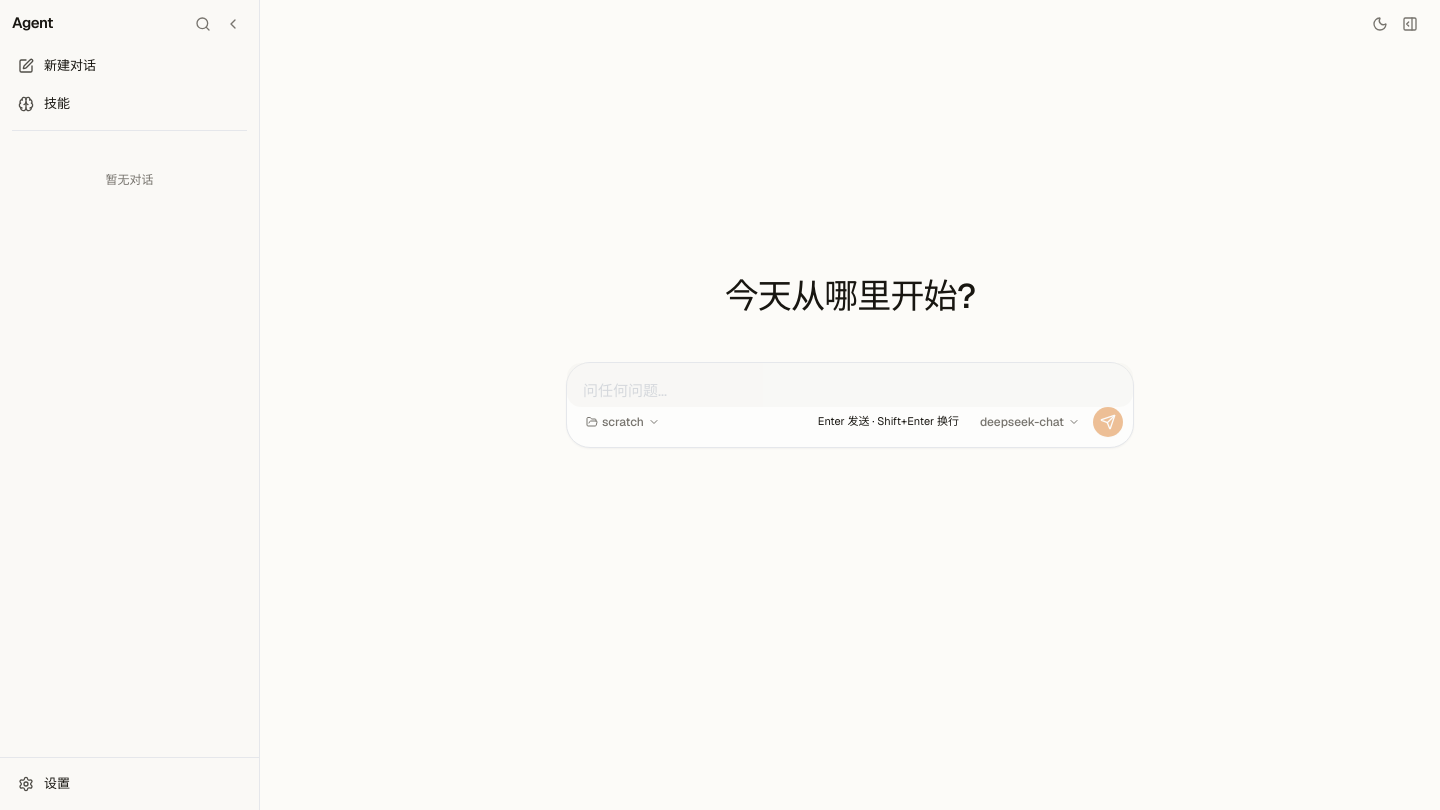
it: App (with router) › navigates to settings page
The image size is (1440, 810).
What coordinates should you click on to do the following:
click the button "设置"
I would click on:
 (130, 784)
Its box is x1=8 y1=766 x2=251 y2=802.
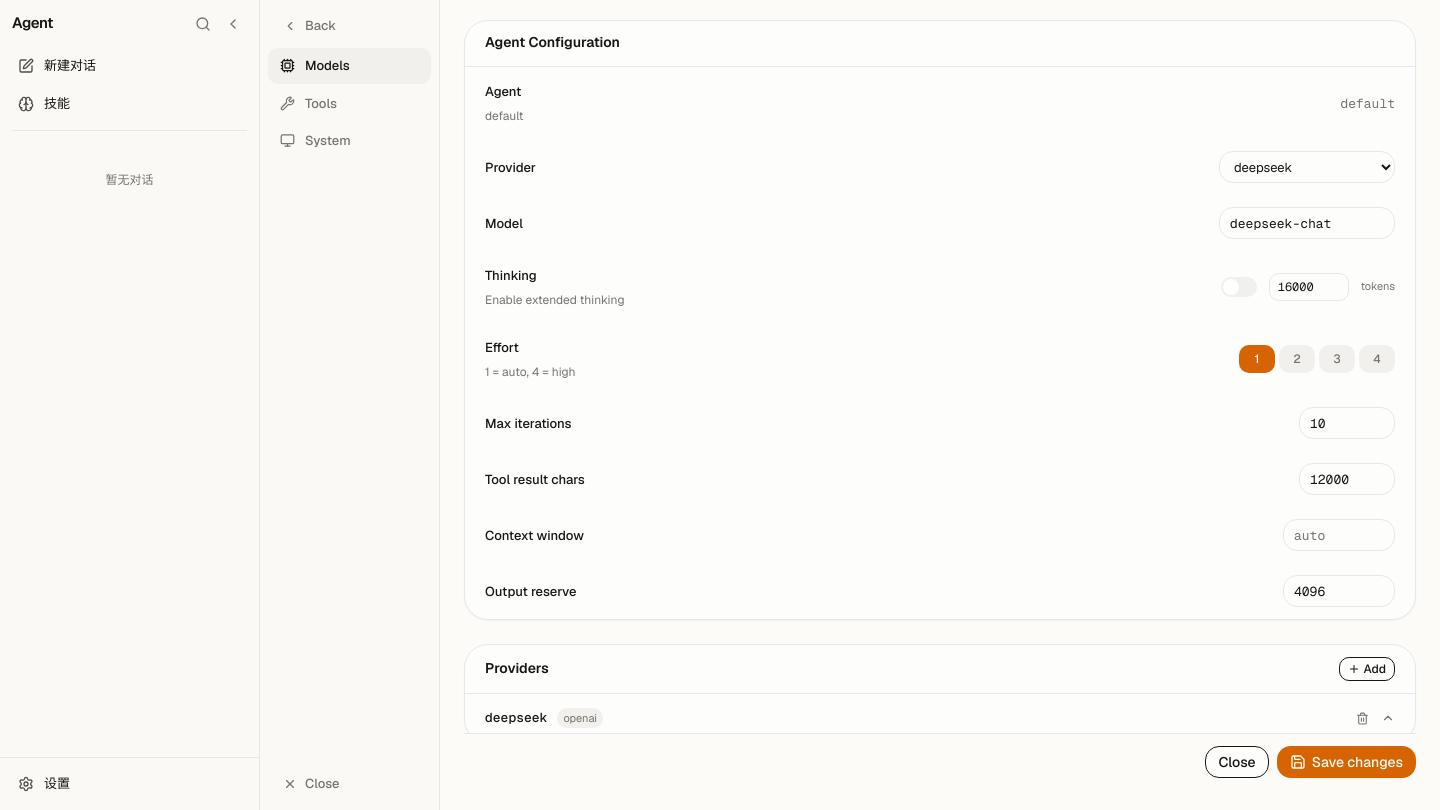
expect the text "Provider" is shown: met, box x1=485 y1=159 x2=536 y2=176
